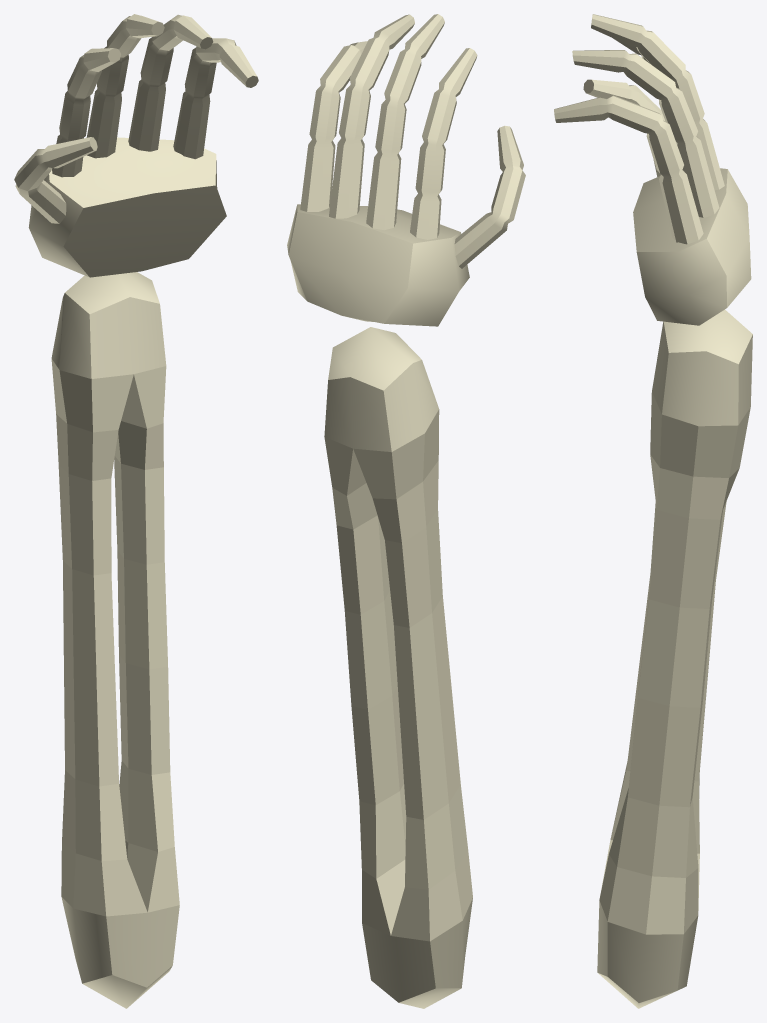
The model's file is hand_skeleton.fbx.
The picture shows the model from 3 angles, left to right: view 1: azimuth 30°, elevation 25°; view 2: azimuth 150°, elevation 25°; view 3: azimuth 270°, elevation 25°; orthographic projection. The views are drawn at different scales.
Parts seen in each view (by area): view 1: hand; view 2: hand; view 3: hand.
Part boxes in pixels (x1,y1,x2,y2): hand: [14, 14, 258, 1008]; hand: [287, 14, 525, 1008]; hand: [554, 14, 752, 1008].
Bounding box in the file's own units: 35.27 × 156 × 28.25.
